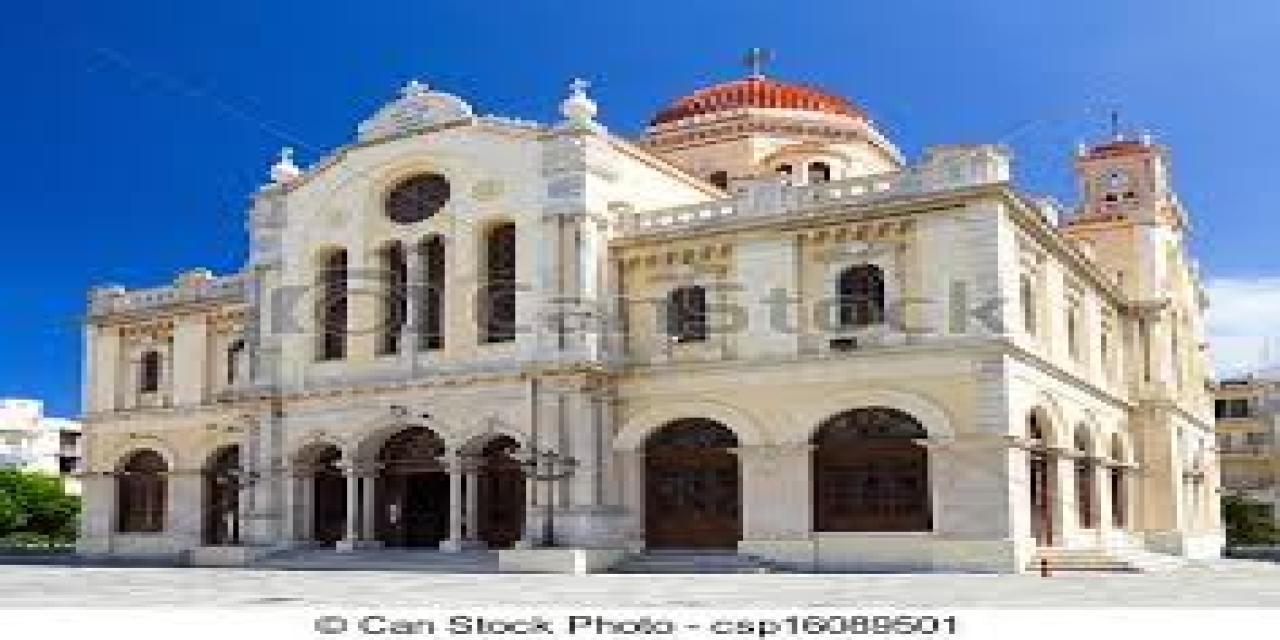Agios Minas: (68, 5, 1228, 571)
